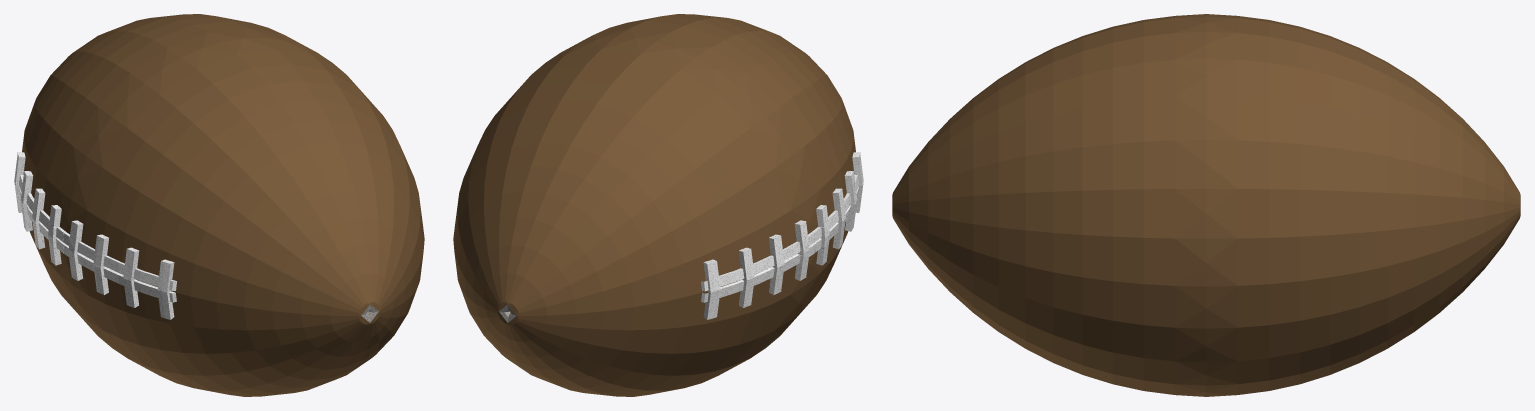
The picture shows the model from 3 angles, left to right: view 1: azimuth 30°, elevation 25°; view 2: azimuth 150°, elevation 25°; view 3: azimuth 270°, elevation 25°; orthographic projection. The views are drawn at different scales.
Visible parts, largest first — view 1: football; view 2: football; view 3: football.
Boxes of the visible parts, <box> form: football: <box>14,14,424,396</box>; football: <box>453,14,863,396</box>; football: <box>892,14,1520,396</box>.
Bounding box in the file's own units: 6.66 × 6.55 × 10.73.
